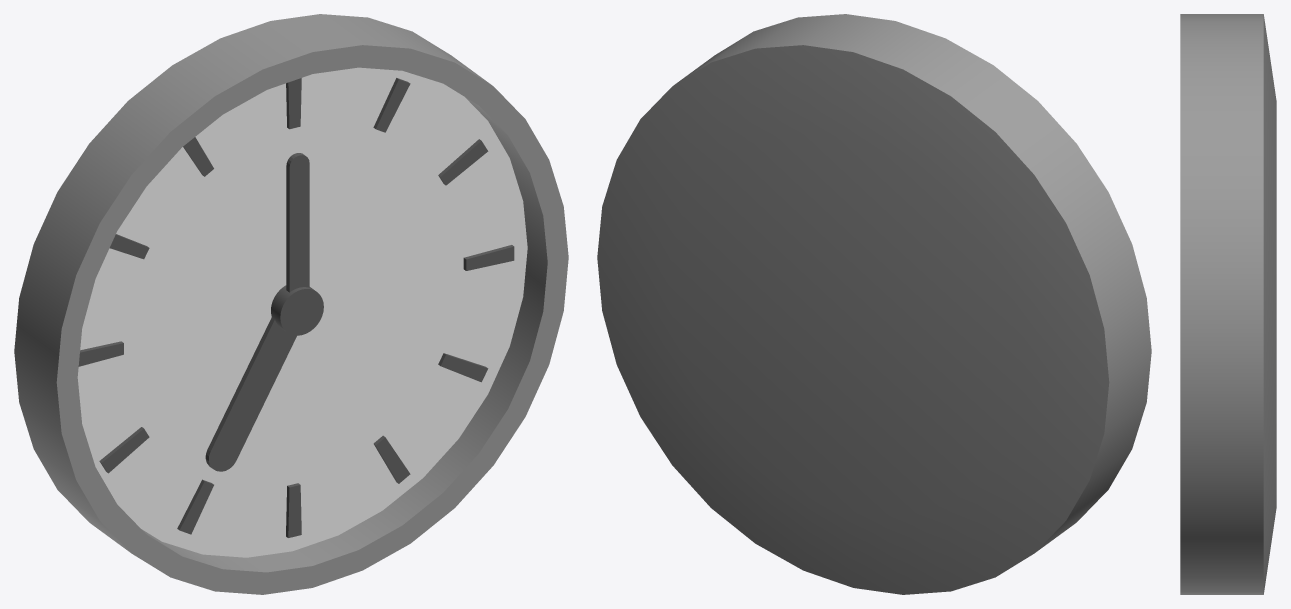
The model's file is seven_oclock.gltf.
The picture shows the model from 3 angles, left to right: view 1: azimuth 30°, elevation 25°; view 2: azimuth 150°, elevation 25°; view 3: azimuth 270°, elevation 25°; orthographic projection.
Parts seen in each view (by area): view 1: Circle.2471, Circle.2472, Plane.278, Plane.279; view 2: Circle.2471; view 3: Circle.2471.
Part boxes in pixels (bbox=[...]): Circle.2471: bbox=[14, 14, 568, 594]; Circle.2472: bbox=[78, 78, 514, 537]; Plane.278: bbox=[205, 317, 296, 471]; Plane.279: bbox=[286, 153, 309, 292]; Circle.2471: bbox=[597, 14, 1151, 594]; Circle.2471: bbox=[1180, 14, 1276, 594].
Size of the model in its own units: 2.33 by 2.33 by 0.387.
1 material, 1 textured.
